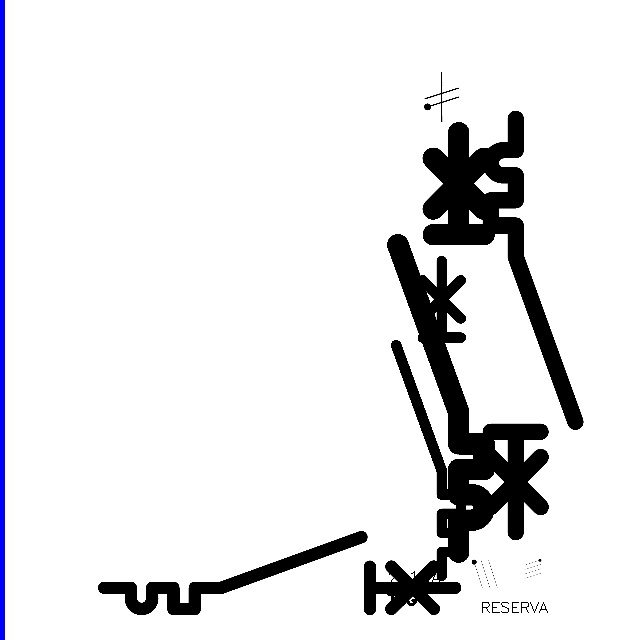interruptor_termomagnetico: (387, 121, 495, 562), (480, 108, 586, 543), (95, 528, 464, 618), (388, 253, 469, 584)
